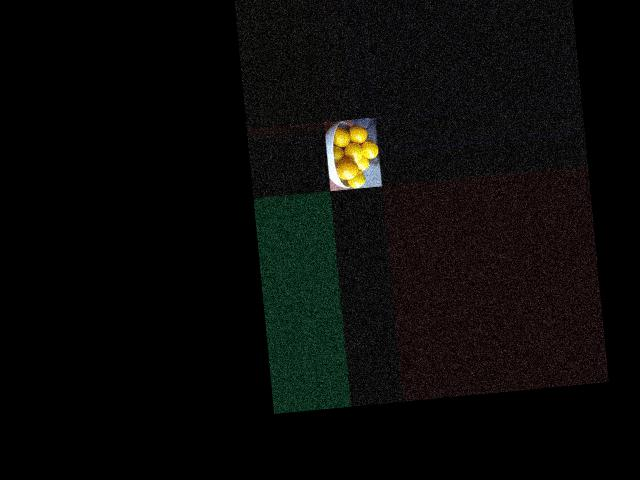lemon: (329, 146, 344, 161)
